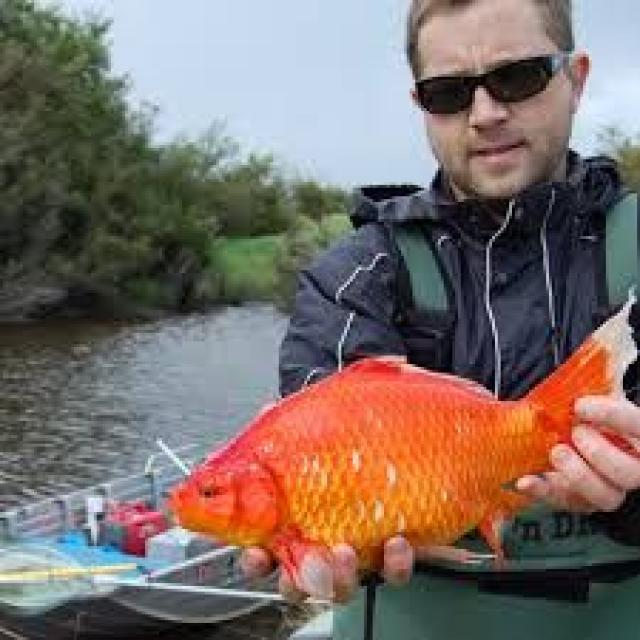Gold-Fish: (64, 323, 619, 570)
